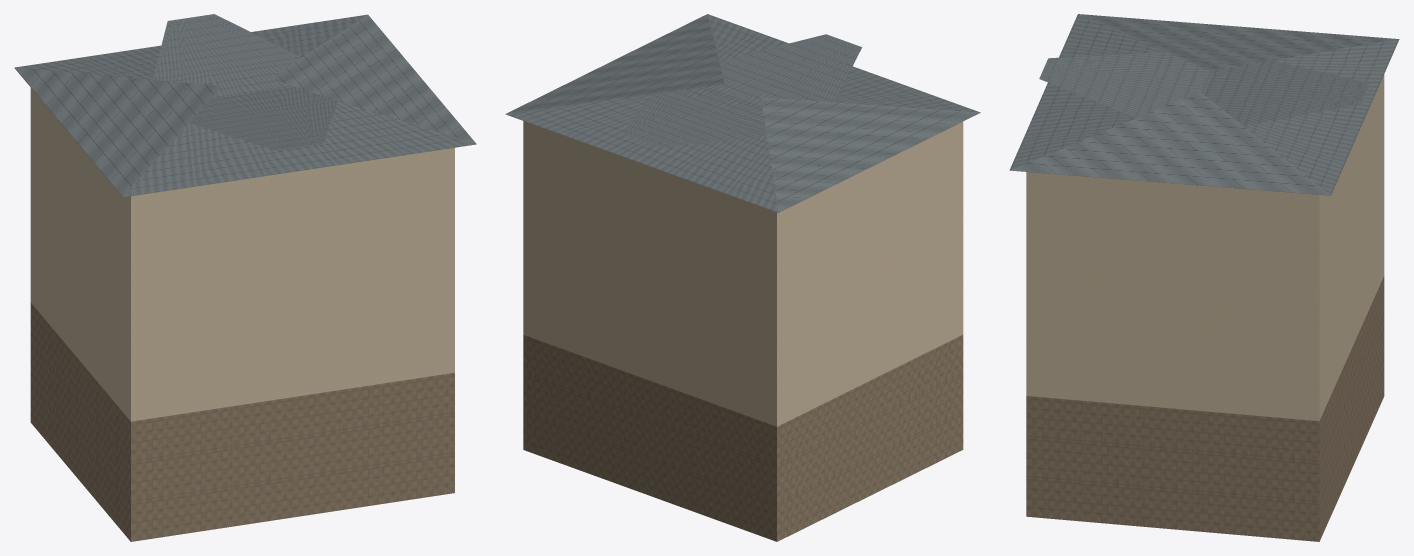
Rendered from bld_c6_8_488.gltf.
3 views of the same model, side by side, from view 1: azimuth 30°, elevation 25°; view 2: azimuth 150°, elevation 25°; view 3: azimuth 270°, elevation 25° (orthographic). The views are drawn at different scales.
Visible parts, largest first — view 1: bld_c6_8_488; view 2: bld_c6_8_488; view 3: bld_c6_8_488.
Part boxes in pixels (x1,y1,x2,y2): bld_c6_8_488: [14, 14, 476, 541]; bld_c6_8_488: [505, 14, 980, 541]; bld_c6_8_488: [1009, 14, 1399, 541].
Bounding box in the file's own units: 16.46 × 15.9 × 14.93.
3 materials, 3 textured.
